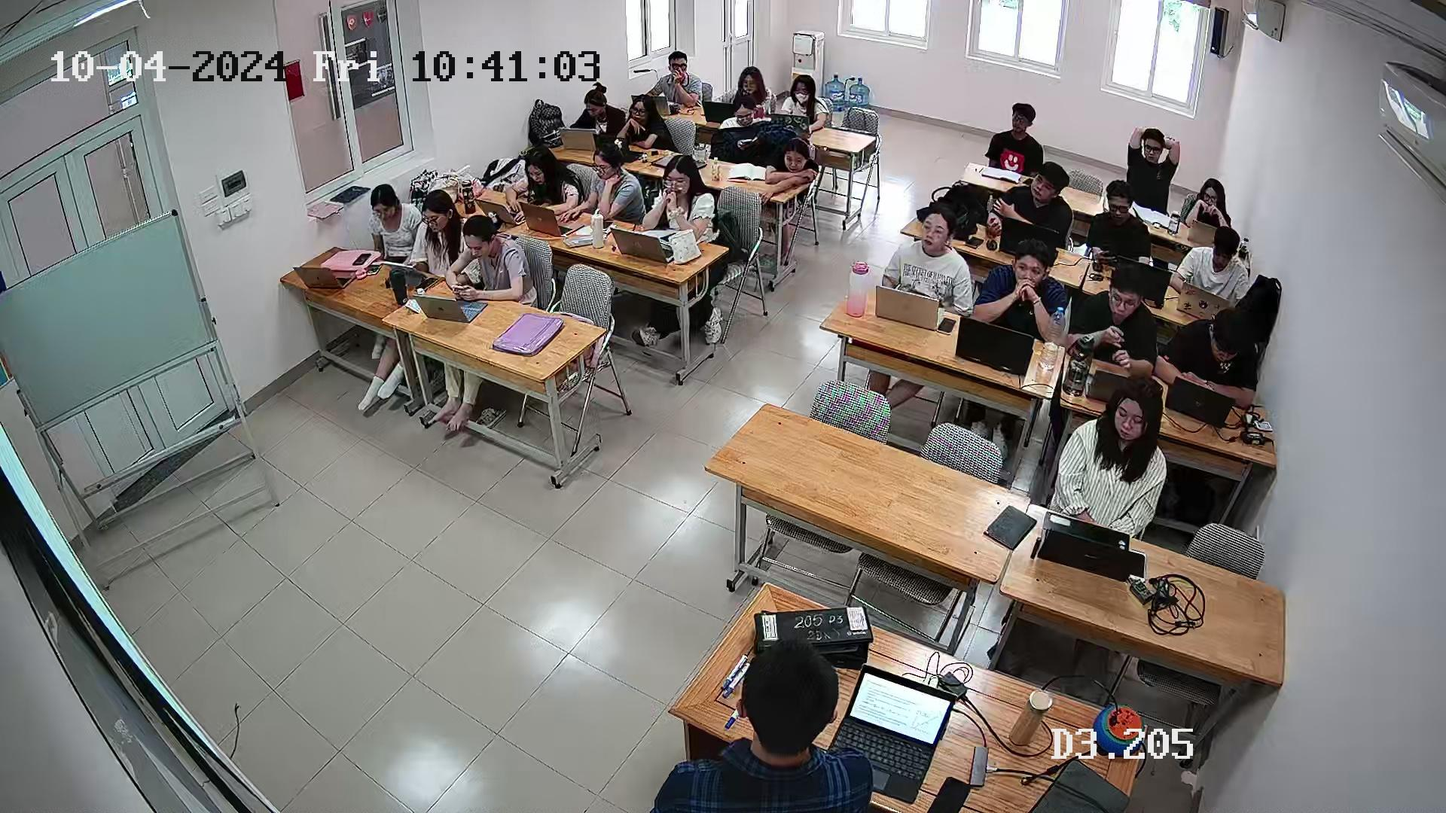Bend Over The Desk: (770, 142, 817, 201)
Look Around: (668, 49, 696, 82)
Normal: (997, 243, 1057, 324), (1100, 269, 1152, 339), (910, 209, 960, 278)
phone: (1090, 246, 1117, 266), (450, 282, 474, 297)
